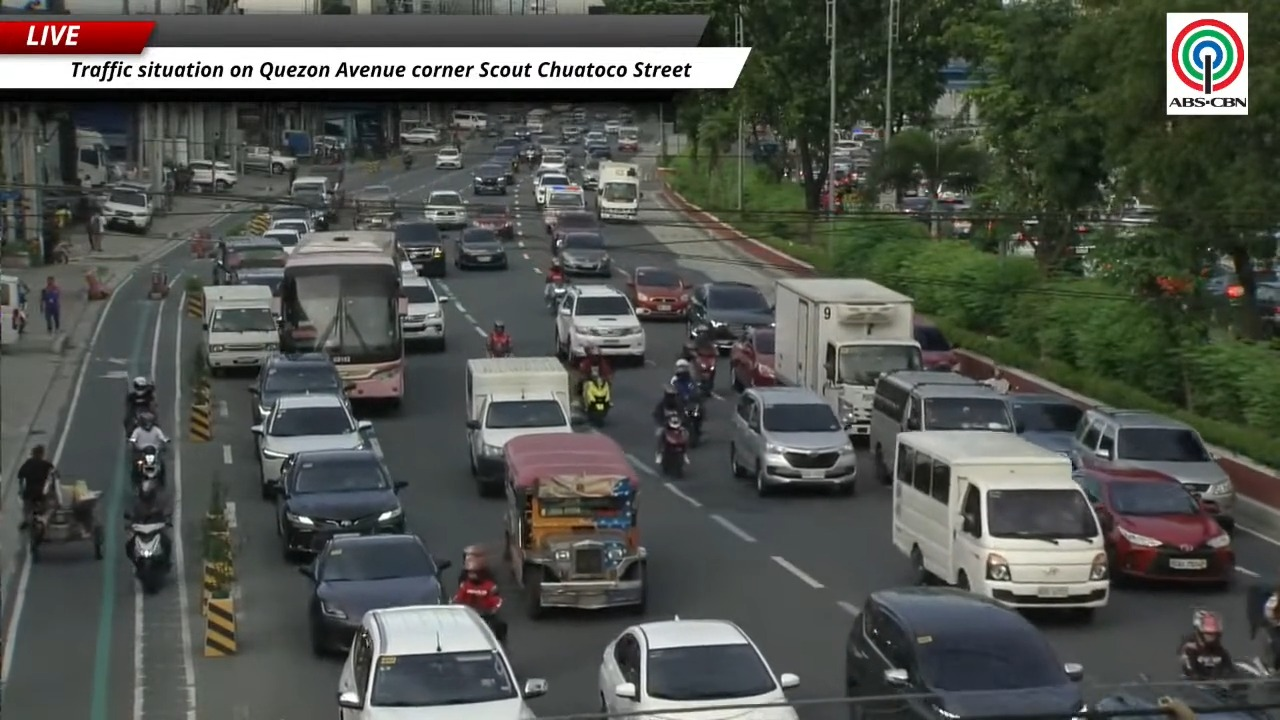bus: (279, 231, 406, 404)
car: (845, 587, 1084, 719), (338, 604, 545, 719), (598, 618, 799, 719), (1074, 468, 1235, 584), (299, 534, 450, 655), (1073, 408, 1235, 515), (273, 448, 407, 559), (731, 387, 856, 495), (251, 393, 371, 498), (555, 284, 645, 364), (249, 352, 344, 423), (1090, 684, 1270, 719), (686, 282, 773, 351), (1006, 394, 1083, 462), (401, 270, 446, 350), (212, 236, 287, 284), (626, 266, 690, 318), (393, 220, 448, 277), (730, 328, 776, 391), (101, 185, 153, 233), (557, 231, 612, 276), (542, 186, 587, 237), (913, 320, 958, 371), (454, 227, 508, 269), (552, 210, 602, 253), (291, 190, 336, 230), (424, 191, 467, 229), (470, 205, 514, 239), (233, 268, 283, 297), (187, 161, 237, 190), (1203, 265, 1243, 300), (1255, 282, 1279, 335), (534, 171, 570, 206), (354, 185, 397, 214), (487, 147, 518, 186), (472, 163, 508, 194), (264, 227, 304, 252), (269, 204, 313, 223), (268, 219, 314, 235), (400, 126, 440, 144), (434, 146, 463, 169), (539, 149, 567, 171), (581, 157, 599, 190), (617, 126, 639, 152), (519, 140, 540, 164), (399, 258, 418, 282), (493, 137, 523, 152), (586, 143, 612, 160), (561, 125, 583, 143), (584, 130, 606, 146), (512, 127, 532, 141), (604, 119, 621, 134)
motorcycle: (1235, 583, 1276, 678), (125, 514, 171, 594), (468, 598, 507, 646), (659, 423, 688, 478), (132, 445, 165, 485), (584, 384, 610, 427), (124, 402, 155, 436), (692, 354, 716, 396), (683, 397, 703, 447), (546, 282, 567, 311), (488, 340, 511, 357), (402, 153, 412, 171)
truck: (774, 278, 922, 439), (465, 357, 579, 495), (202, 284, 279, 375), (596, 161, 640, 221), (75, 129, 110, 187), (242, 146, 296, 174)
